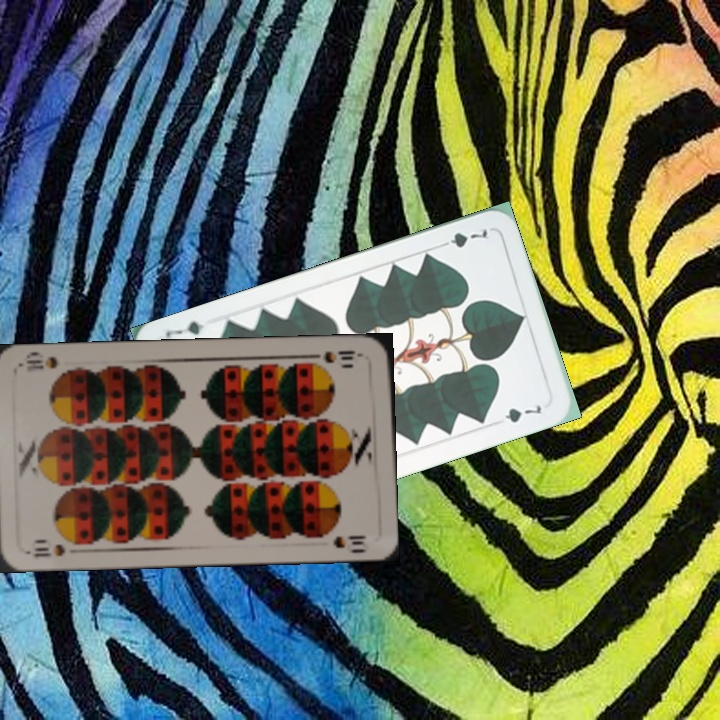G7: (434, 224, 490, 250)
S10: (23, 535, 82, 559), (320, 346, 366, 366)
